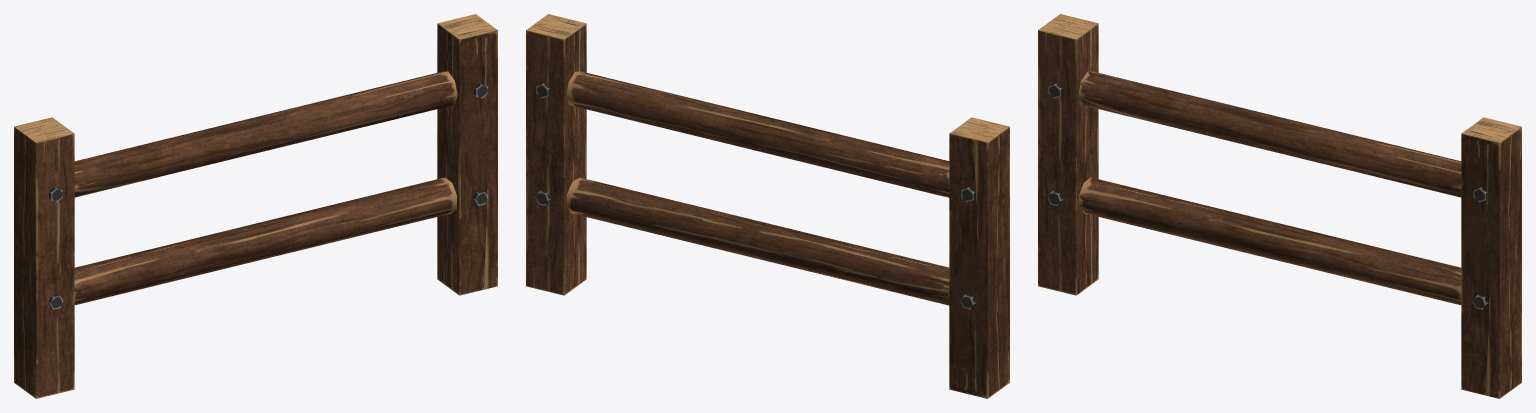
File: WoodenFence.fbx
The picture shows the model from 3 angles, left to right: view 1: azimuth 30°, elevation 25°; view 2: azimuth 150°, elevation 25°; view 3: azimuth 330°, elevation 25°; orthographic projection.
Visible parts, largest first — view 1: WoodenFence; view 2: WoodenFence; view 3: WoodenFence.
Part boxes in pixels (x1=…): WoodenFence: x1=14, y1=14, x2=497, y2=398; WoodenFence: x1=526, y1=14, x2=1009, y2=398; WoodenFence: x1=1038, y1=14, x2=1521, y2=398.
Bounding box in the file's own units: 200 × 106 × 20.11.
